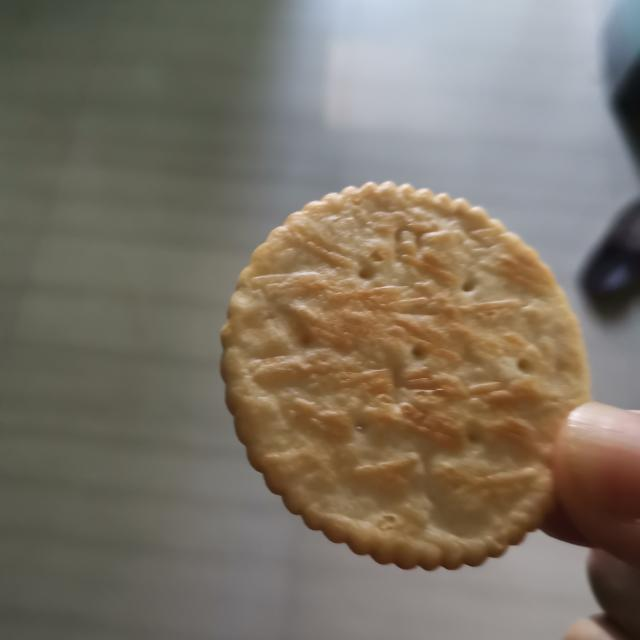Intact: (215, 174, 606, 577)
